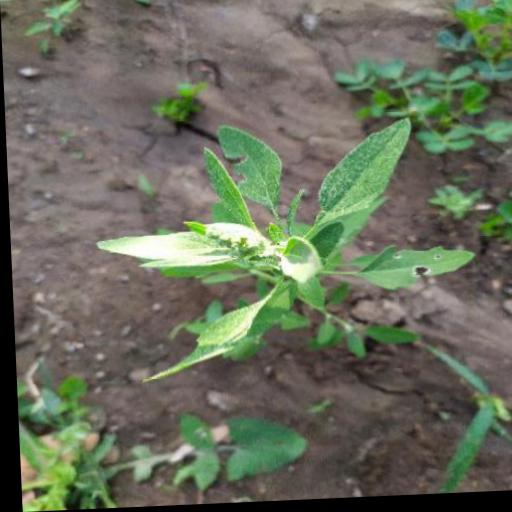crop: (78, 102, 488, 395)
